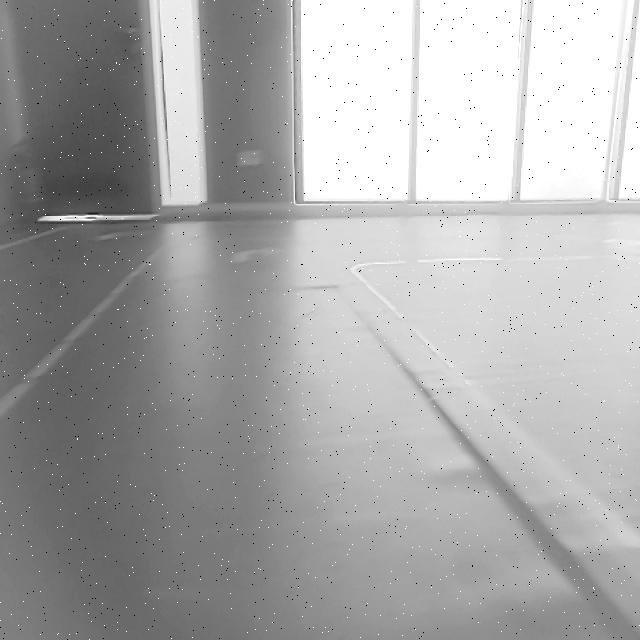left_lane: (0, 238, 172, 421)
right_lane: (350, 272, 639, 586)
